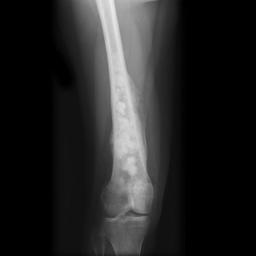cancer: (108, 51, 147, 212)
